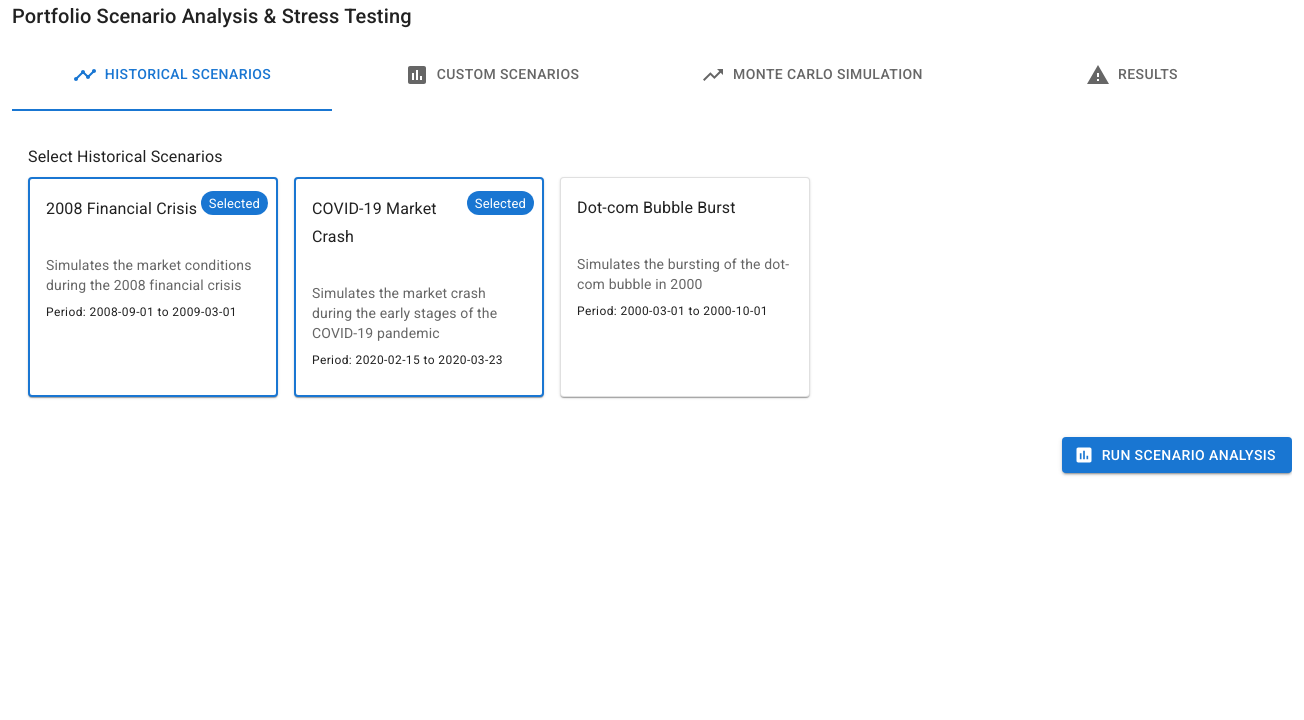
Scenario: ScenarioAnalysisPanel › switches to Monte Carlo simulation tab
# Click on the Monte Carlo Simulation tab
Click the tab "Monte Carlo Simulation".
click(812, 75)  # box [652,39,972,111]
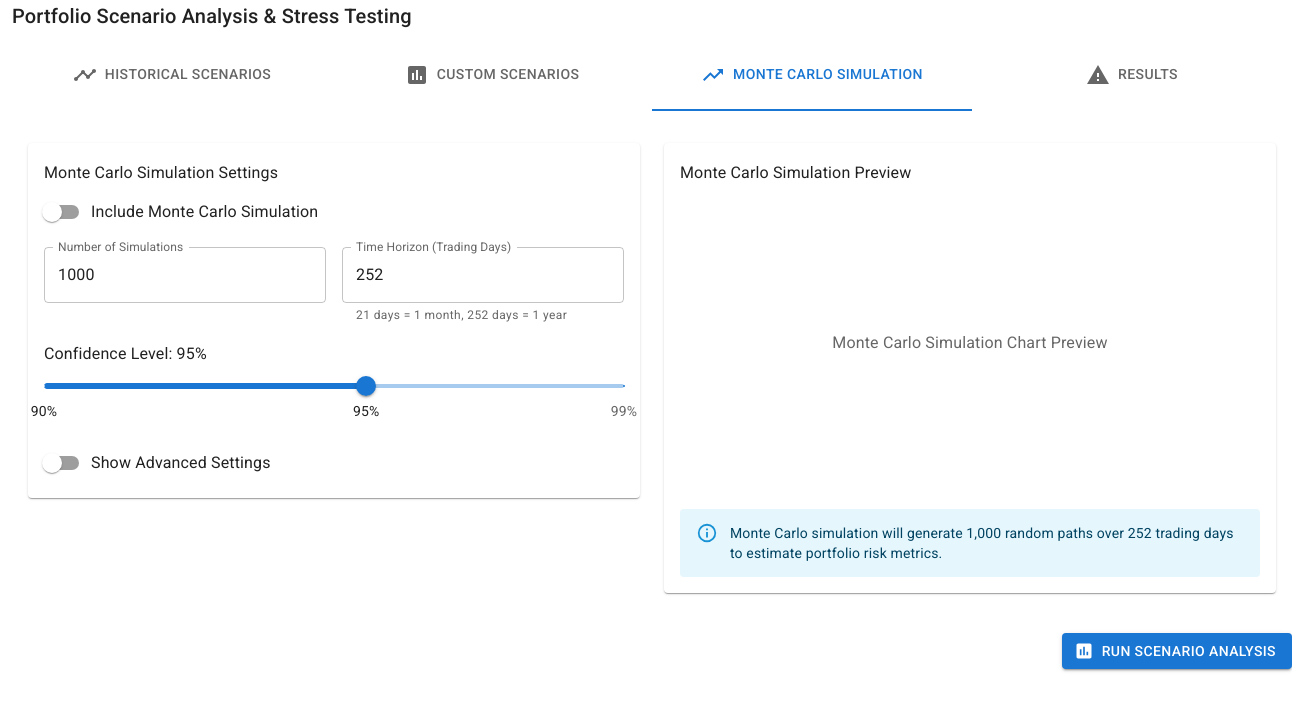
Now the heading "Monte Carlo Simulation Settings" is shown, box [44,163,278,182]
Now the text "Include Monte Carlo Simulation" is shown, box [91,200,318,224]
Now the number field labelled "Number of Simulations" is shown, box [44,247,326,303]
